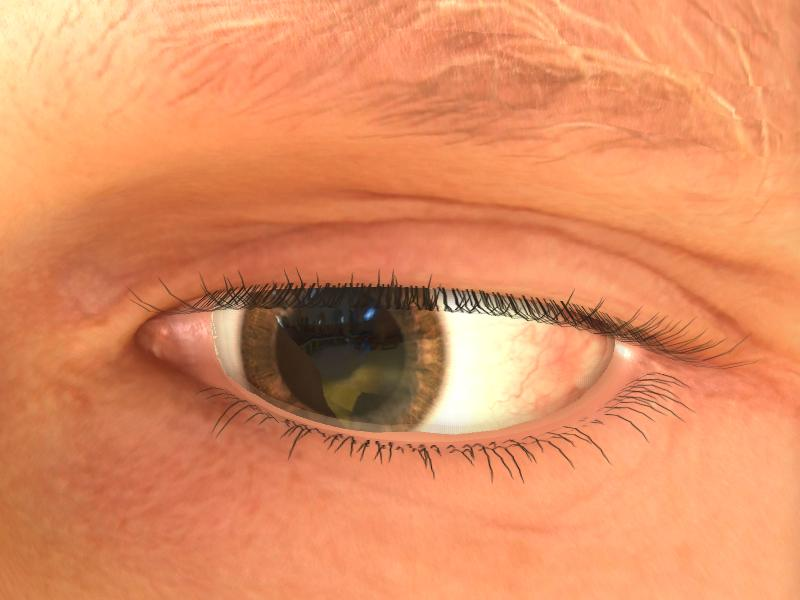eye: (245, 287, 448, 434)
